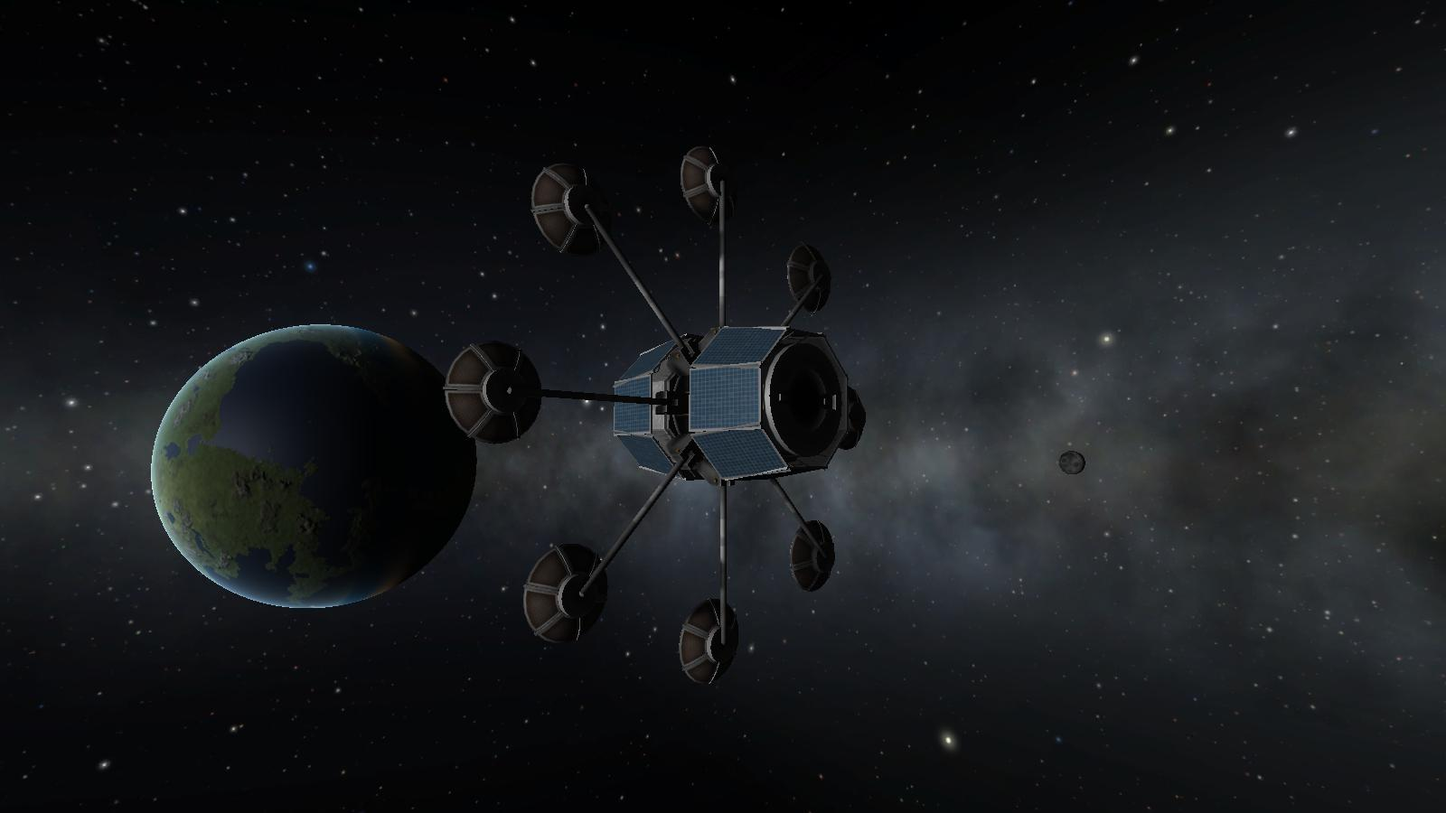antenna: (441, 336, 544, 446), (520, 541, 611, 647), (529, 158, 616, 259), (676, 595, 741, 688), (678, 143, 742, 229), (787, 519, 839, 595), (785, 241, 833, 316), (834, 383, 869, 452)
body: (610, 322, 870, 489)
solar: (685, 364, 765, 433), (687, 427, 791, 480), (690, 325, 789, 369), (612, 332, 682, 387), (615, 433, 686, 481), (612, 372, 658, 435)
